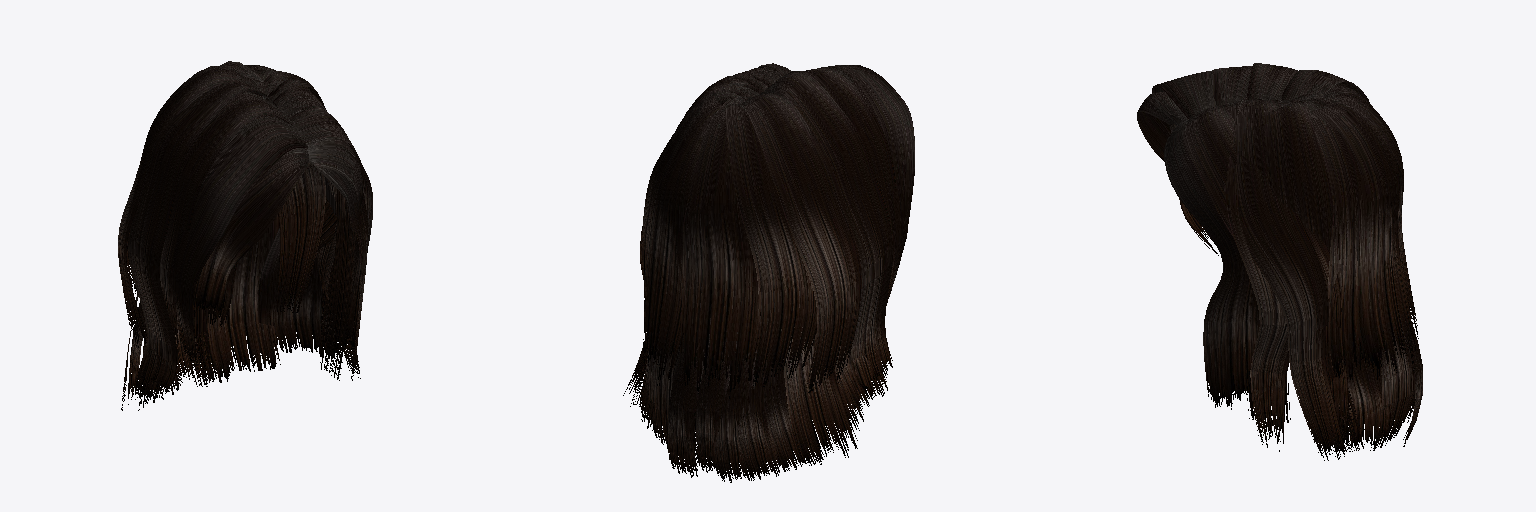
3 views of the same model, side by side, from view 1: azimuth 30°, elevation 25°; view 2: azimuth 150°, elevation 25°; view 3: azimuth 270°, elevation 25° (orthographic).
Parts seen in each view (by area): view 1: hair_girl; view 2: hair_girl; view 3: hair_girl.
Boxes of the visible parts, x1=… form: hair_girl: x1=118, y1=61, x2=372, y2=410; hair_girl: x1=623, y1=63, x2=914, y2=482; hair_girl: x1=1137, y1=63, x2=1422, y2=460.
Size of the model in its own units: 0.2317 by 0.3442 by 0.2482.
Materials: 1 (1 with a texture image).